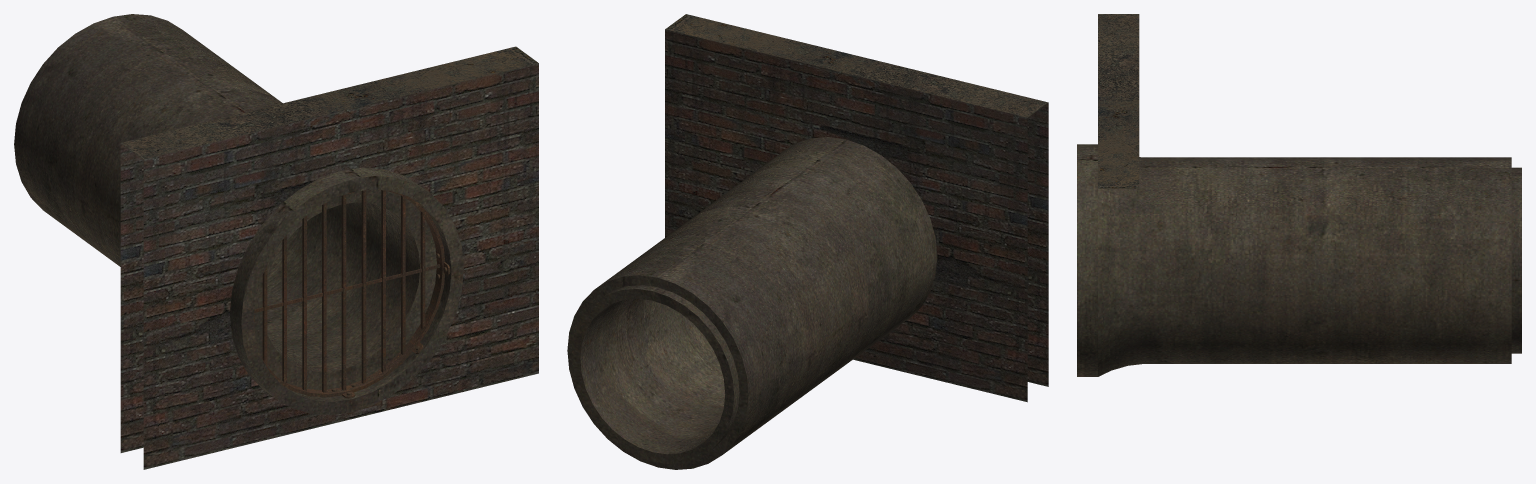
The model's file is wall_hs_1_hole_1.obj.
3 views of the same model, side by side, from view 1: azimuth 30°, elevation 25°; view 2: azimuth 150°, elevation 25°; view 3: azimuth 270°, elevation 25° (orthographic). The views are drawn at different scales.
Parts seen in each view (by area): view 1: wall_hs_1_hole_1; view 2: wall_hs_1_hole_1; view 3: wall_hs_1_hole_1.
Part boxes in pixels (left/top/right/bottom): wall_hs_1_hole_1: left=14, top=14, right=538, bottom=469; wall_hs_1_hole_1: left=567, top=14, right=1048, bottom=469; wall_hs_1_hole_1: left=1077, top=14, right=1521, bottom=376.
Size of the model in its own units: 4 by 3 by 4.3.
